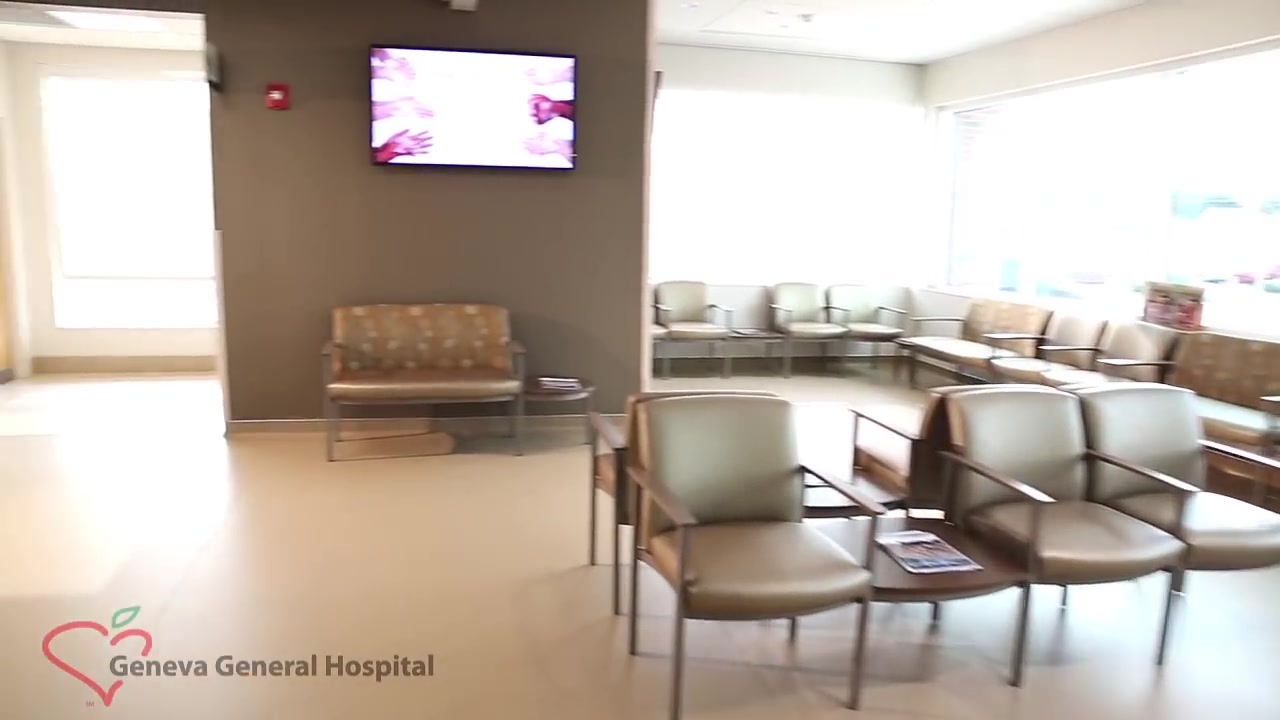TV: (367, 43, 579, 171)
chair: (633, 398, 884, 720), (942, 389, 1183, 689), (1073, 390, 1280, 667), (590, 377, 794, 612), (322, 306, 524, 458), (1182, 327, 1280, 496), (851, 382, 956, 507), (912, 301, 1055, 387), (1040, 320, 1180, 396), (988, 308, 1108, 381), (654, 280, 732, 381), (828, 284, 908, 373), (772, 284, 848, 371)
table: (815, 503, 1023, 685), (522, 379, 595, 445)
